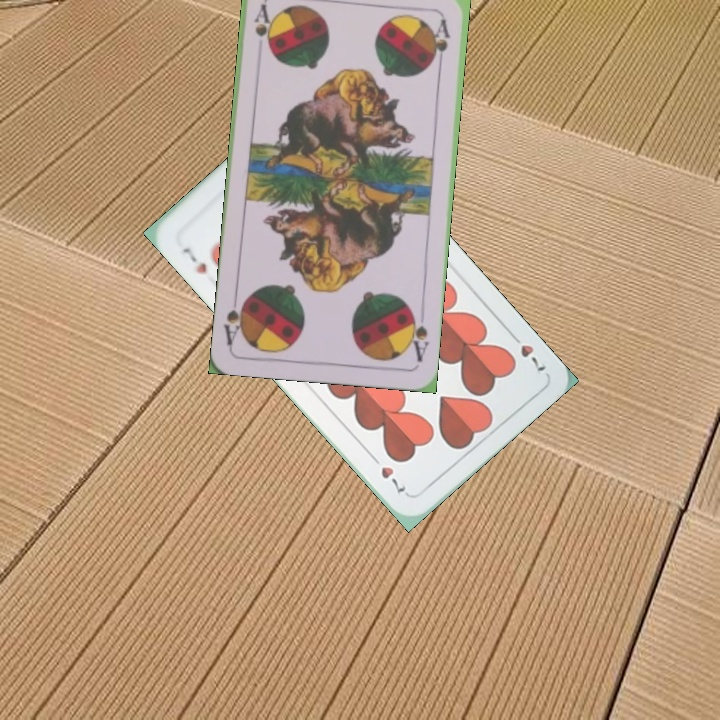H7: (505, 328, 549, 374), (178, 243, 210, 277)
SA: (404, 305, 432, 364), (250, 1, 274, 53)
